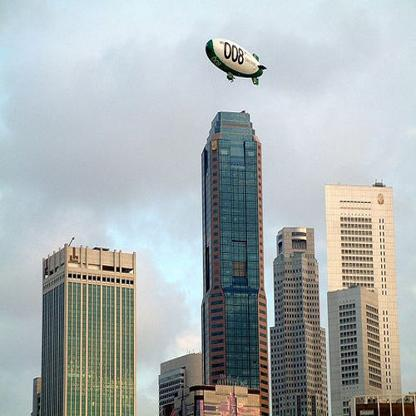Airship: (203, 33, 272, 96)
